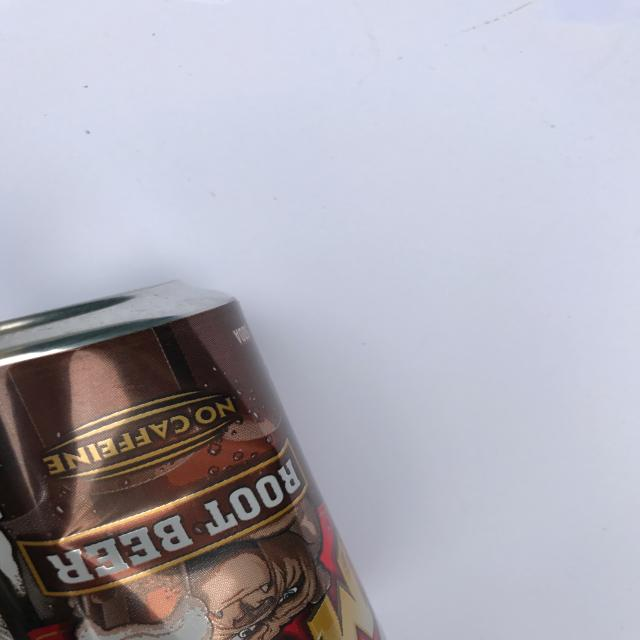metal: (0, 278, 385, 640)
